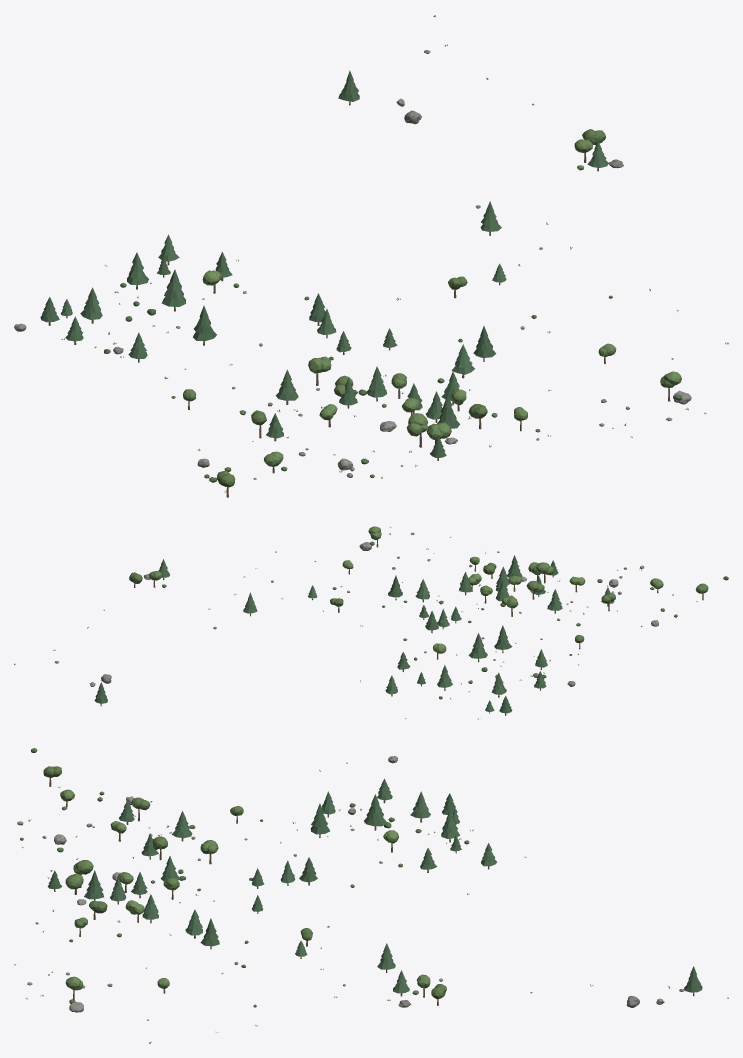
The model's file is arch_land_scatter_c17_18.glb.
3 renders of one model, top to bottom at view 1: azimuth 30°, elevation 25°; view 2: azimuth 150°, elevation 25°; view 3: azimuth 270°, elevation 25°, orthographic. The views are drawn at different scales.
Visible parts, largest first — view 1: arch_land_scatter_c17_18; view 2: arch_land_scatter_c17_18; view 3: arch_land_scatter_c17_18.
Part boxes in pixels (left/top/right/bottom): arch_land_scatter_c17_18: left=14, top=15, right=728, bottom=497; arch_land_scatter_c17_18: left=14, top=526, right=728, bottom=719; arch_land_scatter_c17_18: left=14, top=748, right=728, bottom=1043.
Bounding box in the file's own units: 222 × 33.59 × 253.
